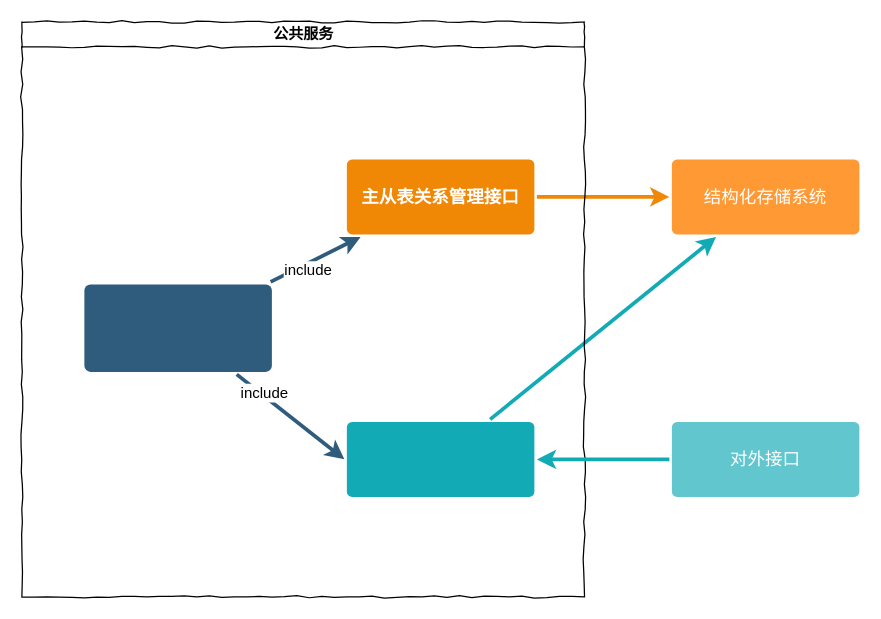
This 881x619 diagram has some shape labels left out. Here are the shapes that lost their labels. From the top down, the box of each, then its label:
(84, 284, 271, 371): 主从表关系模块
(346, 421, 534, 496): 主表删除判断接口
